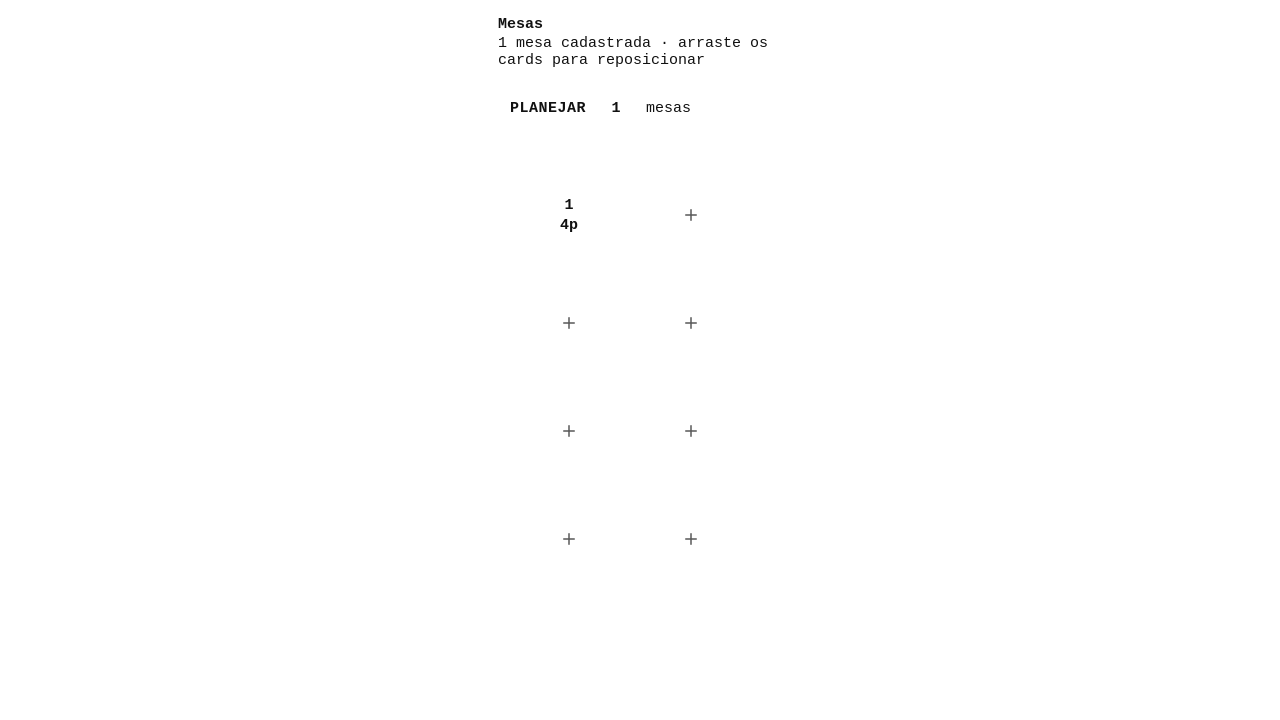
Test: MesasAdmin › excluir pede confirmação e só então remove
Hover over the text "1" at (569, 215), box [560,196,578,234]
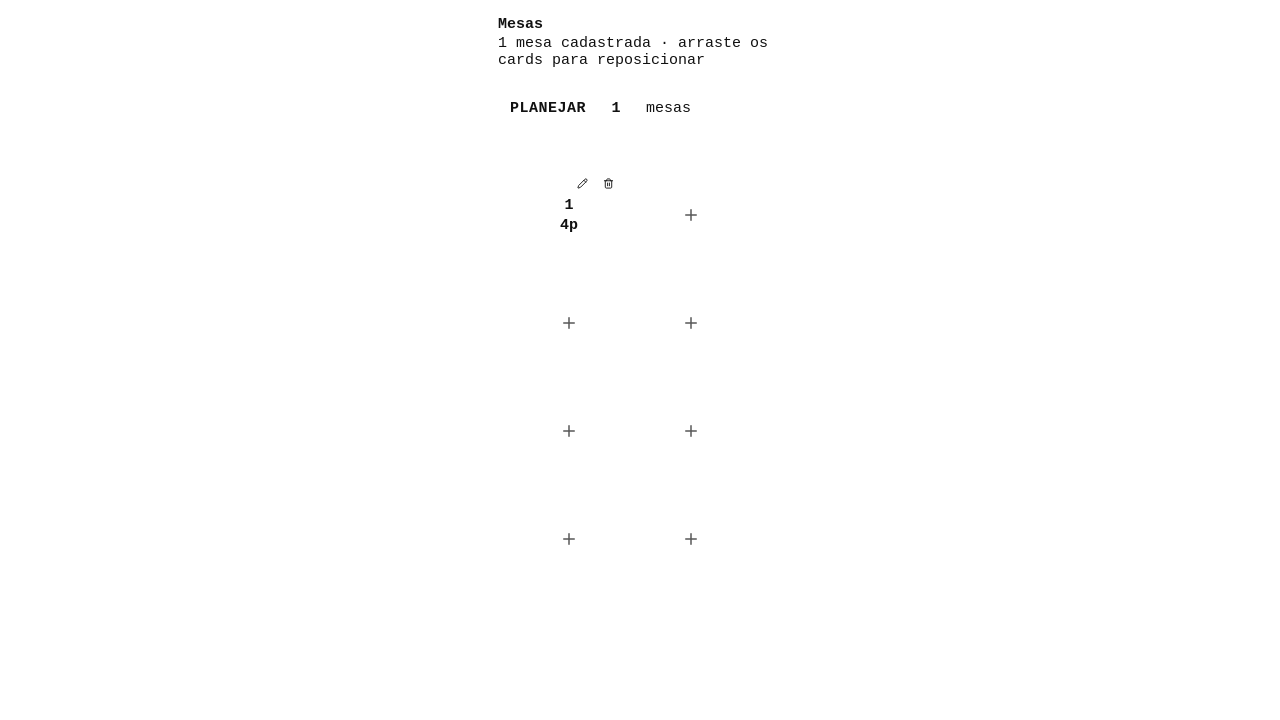
Click the button titled "Remover" at (608, 183), box [597,172,619,194]
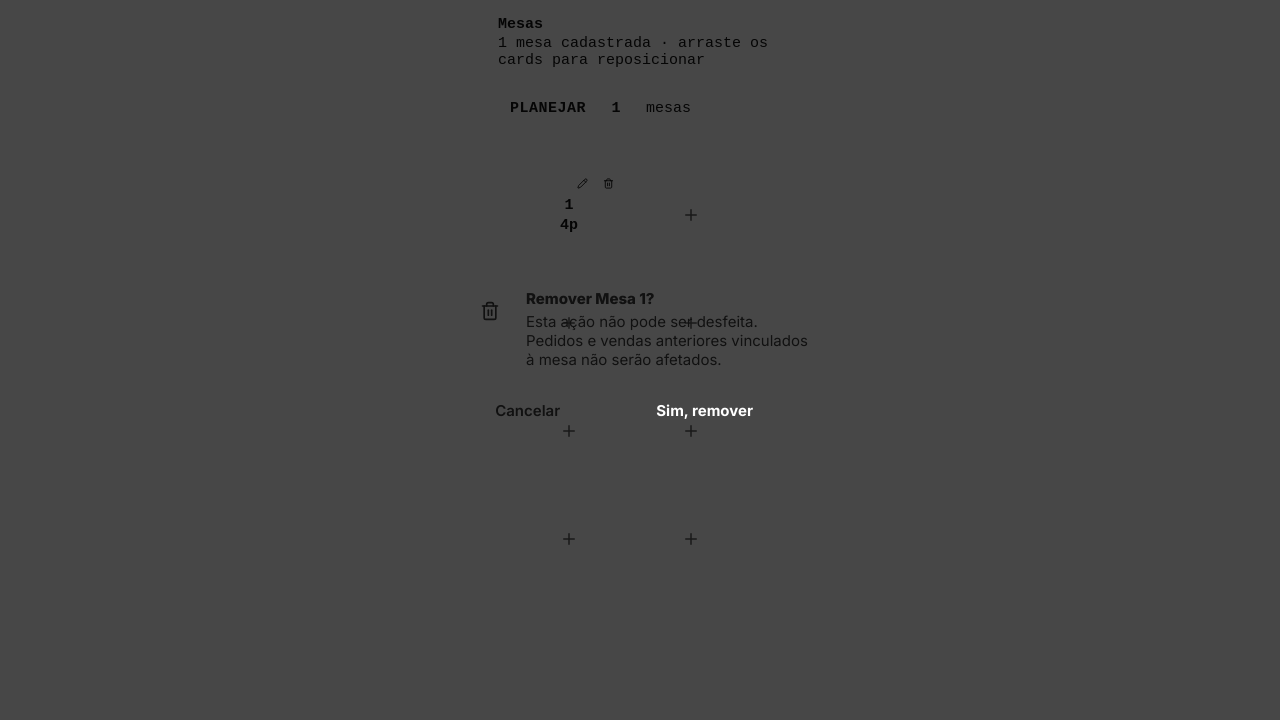
Click the button "Sim, remover" at (705, 410), box [597,388,812,432]
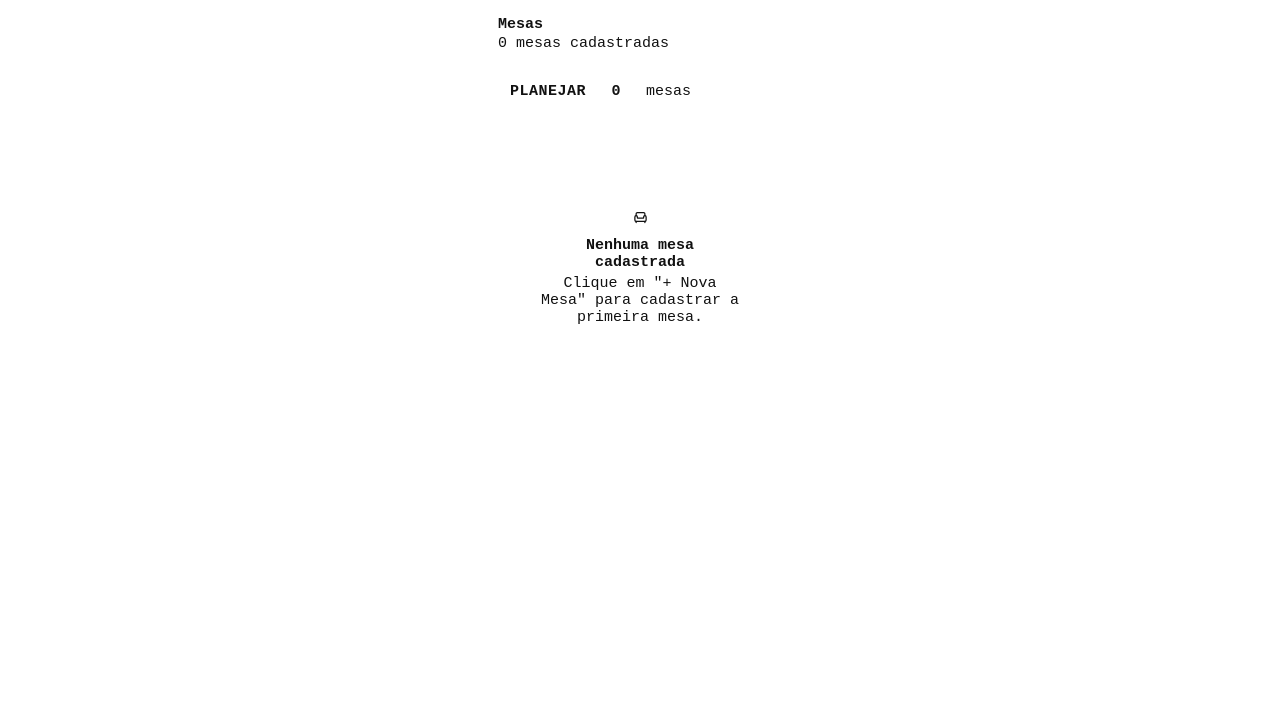
Expected: the text titled "Remover" is gone
